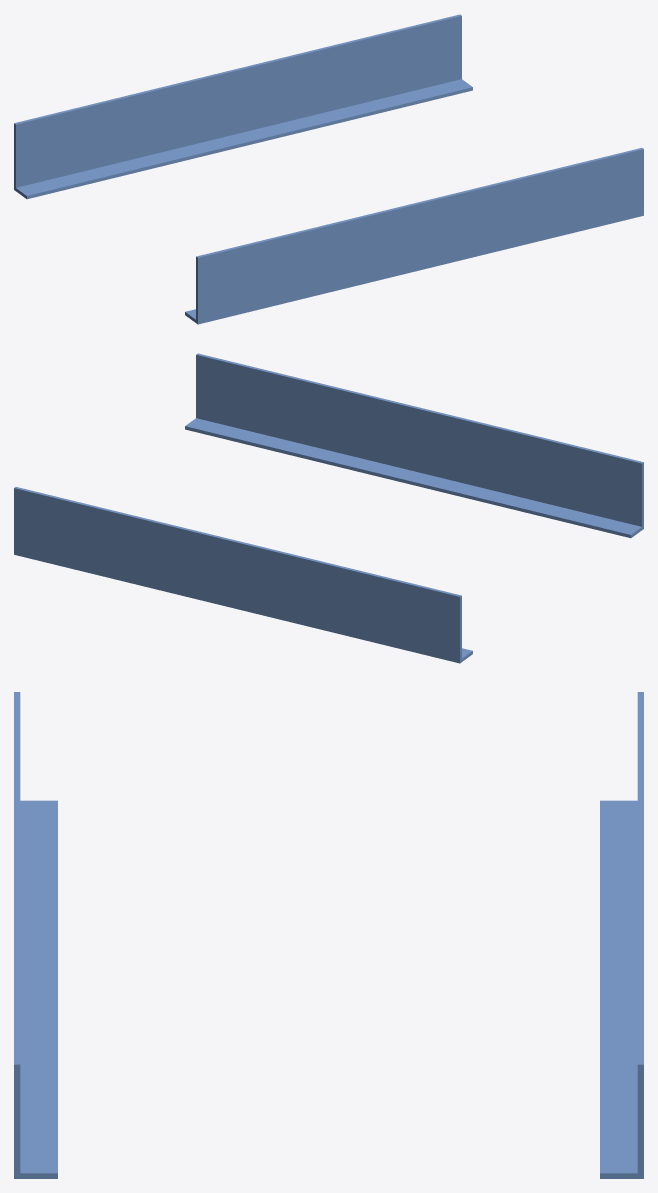
The model's file is AisleRail.fbx.
3 views of the same model, one above another, from view 1: azimuth 30°, elevation 25°; view 2: azimuth 150°, elevation 25°; view 3: azimuth 270°, elevation 25° (orthographic). The views are drawn at different scales.
Visible parts, largest first — view 1: AR_Web_L, AR_Web_R, AR_Track_R; view 2: AR_Web_R, AR_Web_L, AR_Track_L; view 3: AR_Track_L, AR_Track_R, AR_Web_R, AR_Web_L.
Boxes of the visible parts, <box> form: AR_Web_L: <box>196,148,643,324</box>; AR_Web_R: <box>14,14,461,190</box>; AR_Track_R: <box>15,79,472,199</box>; AR_Web_R: <box>14,487,461,663</box>; AR_Web_L: <box>196,353,643,529</box>; AR_Track_L: <box>185,418,641,538</box>; AR_Track_L: <box>17,800,57,1178</box>; AR_Track_R: <box>600,800,640,1178</box>; AR_Web_R: <box>637,692,643,1178</box>; AR_Web_L: <box>14,692,20,1178</box>.
Bounding box in the file's own units: 1.4 × 0.2 × 1.
